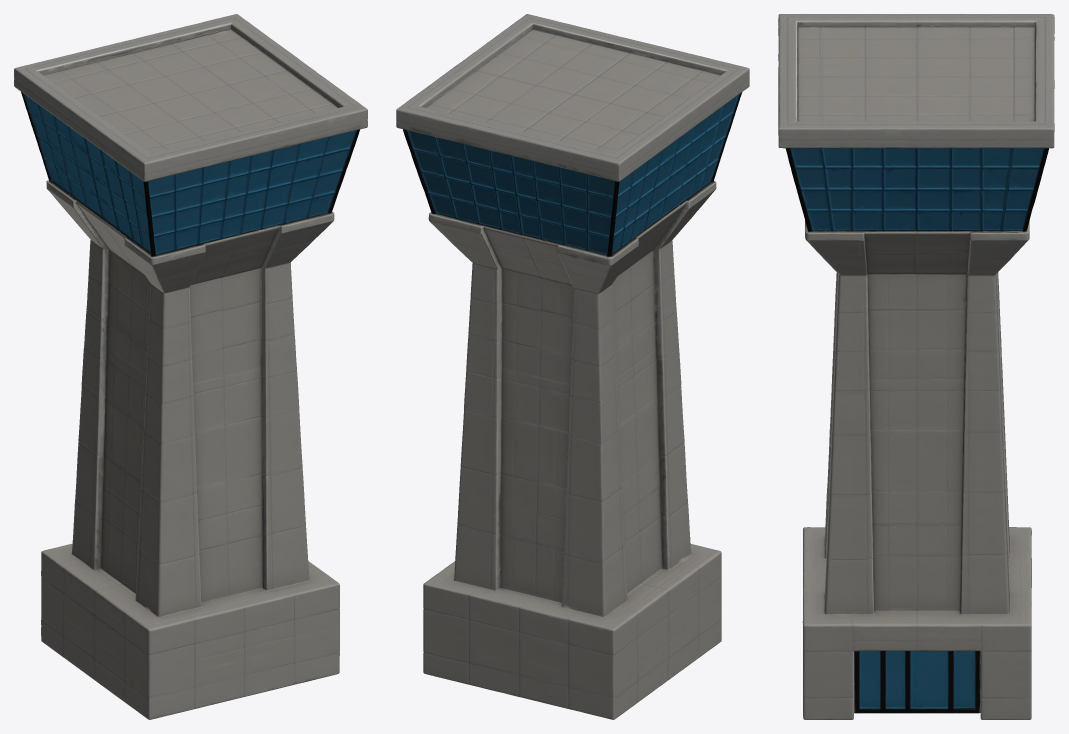
The model's file is controlTower.glb.
3 views of the same model, side by side, from view 1: azimuth 30°, elevation 25°; view 2: azimuth 150°, elevation 25°; view 3: azimuth 270°, elevation 25° (orthographic). The views are drawn at different scales.
Visible parts, largest first — view 1: tripo_node_119657e0-5c23-4878-b43d-ade234cb3a67; view 2: tripo_node_119657e0-5c23-4878-b43d-ade234cb3a67; view 3: tripo_node_119657e0-5c23-4878-b43d-ade234cb3a67.
Part boxes in pixels (x1,y1,x2,y2): tripo_node_119657e0-5c23-4878-b43d-ade234cb3a67: (14, 14, 367, 719); tripo_node_119657e0-5c23-4878-b43d-ade234cb3a67: (396, 14, 749, 719); tripo_node_119657e0-5c23-4878-b43d-ade234cb3a67: (778, 14, 1054, 719).
Size of the model in its own units: 0.4114 by 1 by 0.4167.
Materials: 1 (1 with a texture image).
